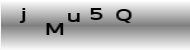5: (89, 6, 103, 21)
M: (44, 21, 63, 36)
Q: (114, 8, 132, 23)
j: (18, 7, 26, 24)
u: (66, 11, 80, 23)
